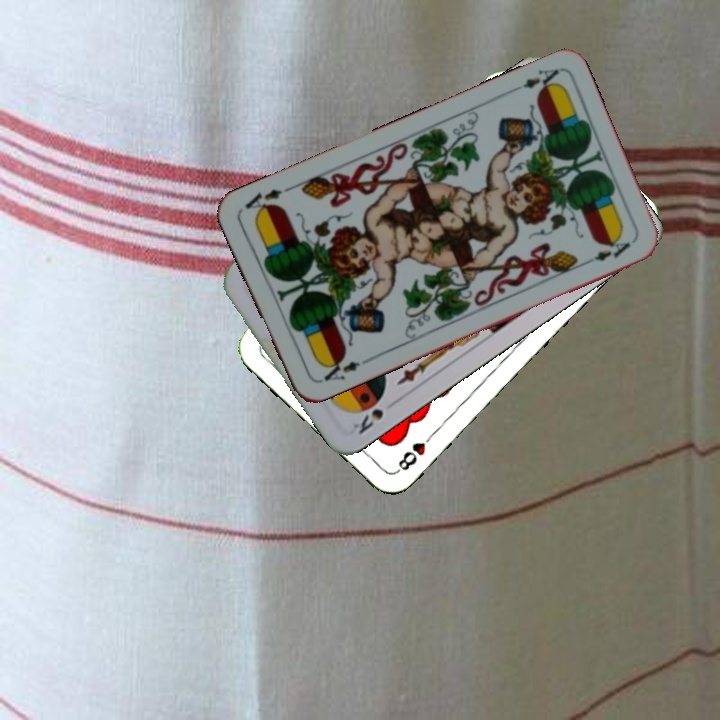EA: (505, 64, 563, 96), (319, 352, 371, 384)
H8: (392, 428, 437, 476)
SK: (348, 395, 400, 437)
